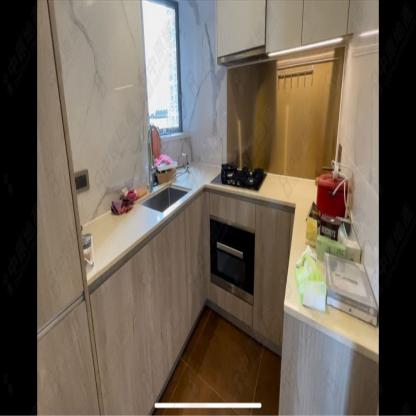Cupboard: (36, 2, 204, 414), (214, 0, 309, 54)
Exhaust Hood: (217, 44, 270, 67)
Faucet: (146, 122, 162, 187)
Oven: (210, 215, 256, 304)
Sink: (140, 185, 191, 212)
Stove: (211, 161, 267, 191)
